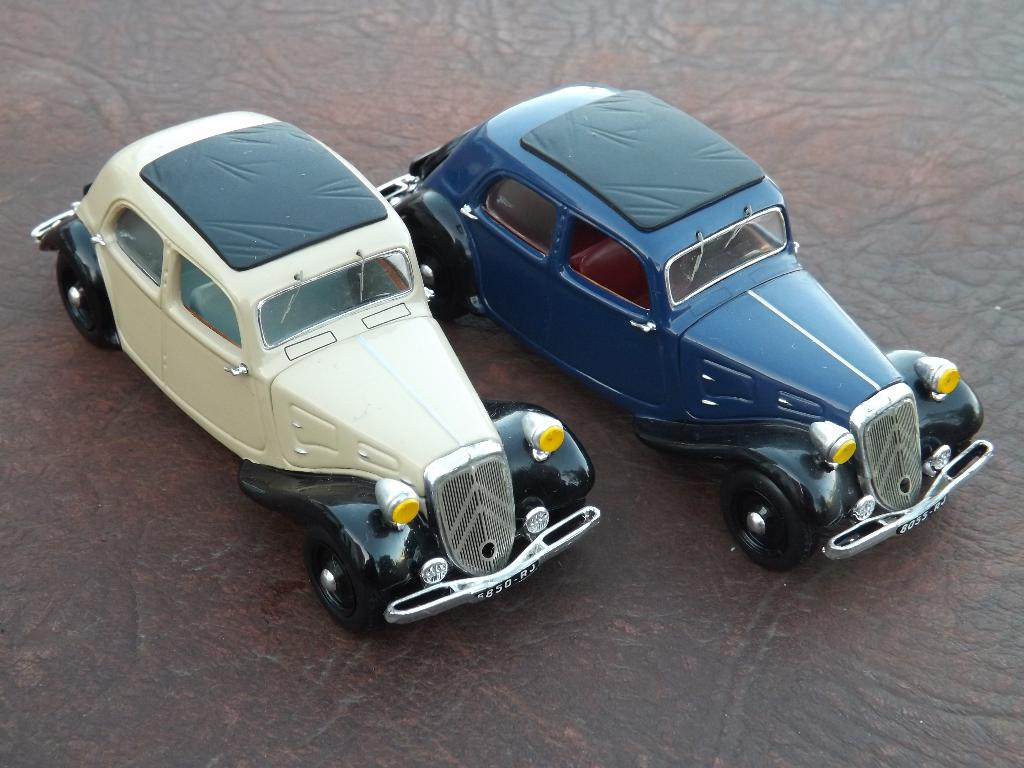Car: (32, 112, 602, 634), (376, 91, 996, 568)
